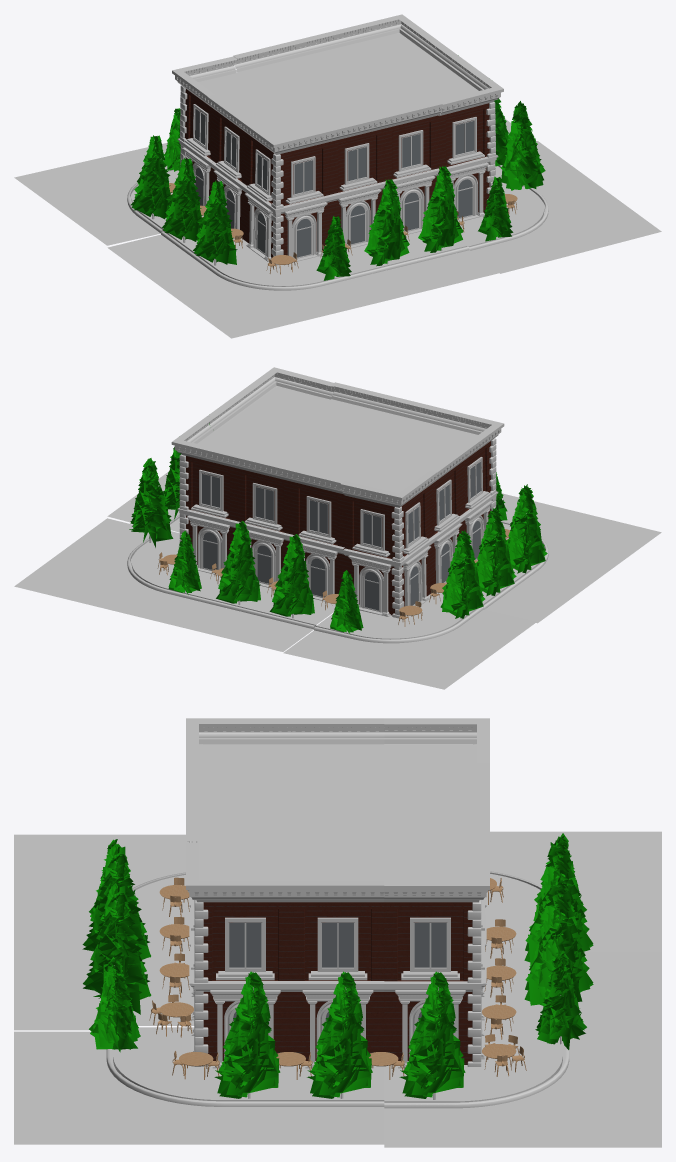
The model's file is Building_1.fbx.
3 views of the same model, one above another, from view 1: azimuth 30°, elevation 25°; view 2: azimuth 150°, elevation 25°; view 3: azimuth 270°, elevation 25° (orthographic). The views are drawn at different scales.
Parts seen in each view (by area): view 1: RoadC.001, RoadC.002, RoadC.003, W37.003, W37.005, W37.007, W37.001, RoadM.001, RoadM.003, Tree-5.006, D3.001, Tree-5.001 (+44 smaller); view 2: RoadC.003, RoadC.004, RoadC.001, W37.004, W37.006, W37.008, W37.002, RoadM.002, RoadM.004, Tree-5.009, Tree-5.002, Tree-5.004 (+43 smaller); view 3: RoadC.004, RoadC.002, RoadC.003, RoadC.001, W37.012, W37.014, W37.010, RoadM.005, Tree-5.008, Tree-5.010, Tree-5.006, RoadM.004 (+46 smaller).
Part boxes in pixels (<box>): RoadC.001: <box>138,241,392,338</box>; RoadC.002: <box>460,163,661,273</box>; RoadC.003: <box>14,143,203,245</box>; W37.003: <box>330,128,384,194</box>; W37.005: <box>384,115,438,181</box>; W37.007: <box>438,103,489,168</box>; W37.001: <box>280,142,330,205</box>; RoadM.001: <box>346,244,446,298</box>; RoadM.003: <box>406,231,499,285</box>; Tree-5.006: <box>500,101,545,190</box>; D3.001: <box>280,202,330,262</box>; Tree-5.001: <box>364,179,409,266</box>; RoadC.003: <box>283,594,537,689</box>; RoadC.004: <box>14,518,220,625</box>; RoadC.001: <box>500,493,661,600</box>; W37.004: <box>291,481,345,549</box>; W37.006: <box>237,468,291,534</box>; W37.008: <box>186,456,237,521</box>; W37.002: <box>345,495,394,558</box>; RoadM.002: <box>230,599,335,651</box>; RoadM.004: <box>176,585,274,638</box>; Tree-5.009: <box>440,530,485,618</box>; Tree-5.002: <box>269,534,314,618</box>; Tree-5.004: <box>216,521,260,604</box>; RoadC.004: <box>384,1026,661,1147</box>; RoadC.002: <box>14,1027,291,1144</box>; RoadC.003: <box>485,831,661,951</box>; RoadC.001: <box>14,834,190,951</box>; W37.012: <box>291,902,384,980</box>; W37.014: <box>384,902,472,981</box>; W37.010: <box>203,902,291,980</box>; RoadM.005: <box>291,1065,384,1144</box>; Tree-5.008: <box>307,971,372,1098</box>; Tree-5.010: <box>399,971,465,1099</box>; Tree-5.006: <box>214,971,280,1098</box>; RoadM.004: <box>481,987,661,1029</box>.
Size of the model in its own units: 1600 by 454 by 1400.
